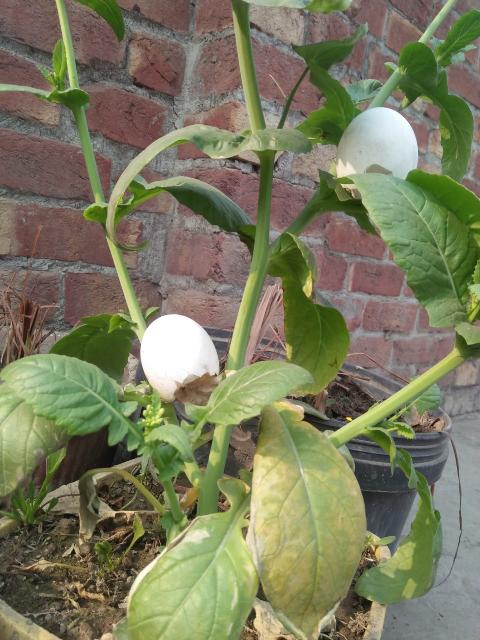Roto: (334, 106, 419, 193), (139, 313, 220, 404)
